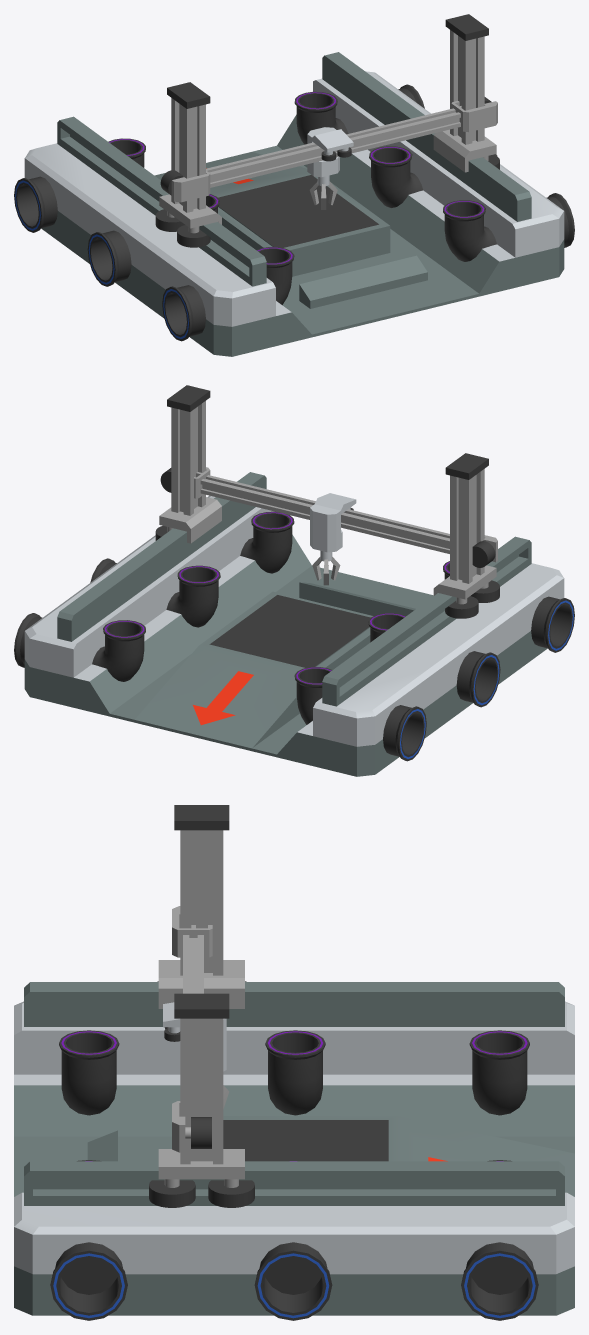
The model's file is RoverAssembler.fbx.
The picture shows the model from 3 angles, top to bottom: view 1: azimuth 30°, elevation 25°; view 2: azimuth 150°, elevation 25°; view 3: azimuth 270°, elevation 25°; orthographic projection. The views are drawn at different scales.
Visible parts, largest first — view 1: Rover Assembler.001; view 2: Rover Assembler.001; view 3: Rover Assembler.001.
Part boxes in pixels (x1,y1,x2,y2): Rover Assembler.001: (14,14,574,356); Rover Assembler.001: (14,385,574,776); Rover Assembler.001: (14,805,574,1320).
Bounding box in the file's own units: 300 × 156 × 273.
